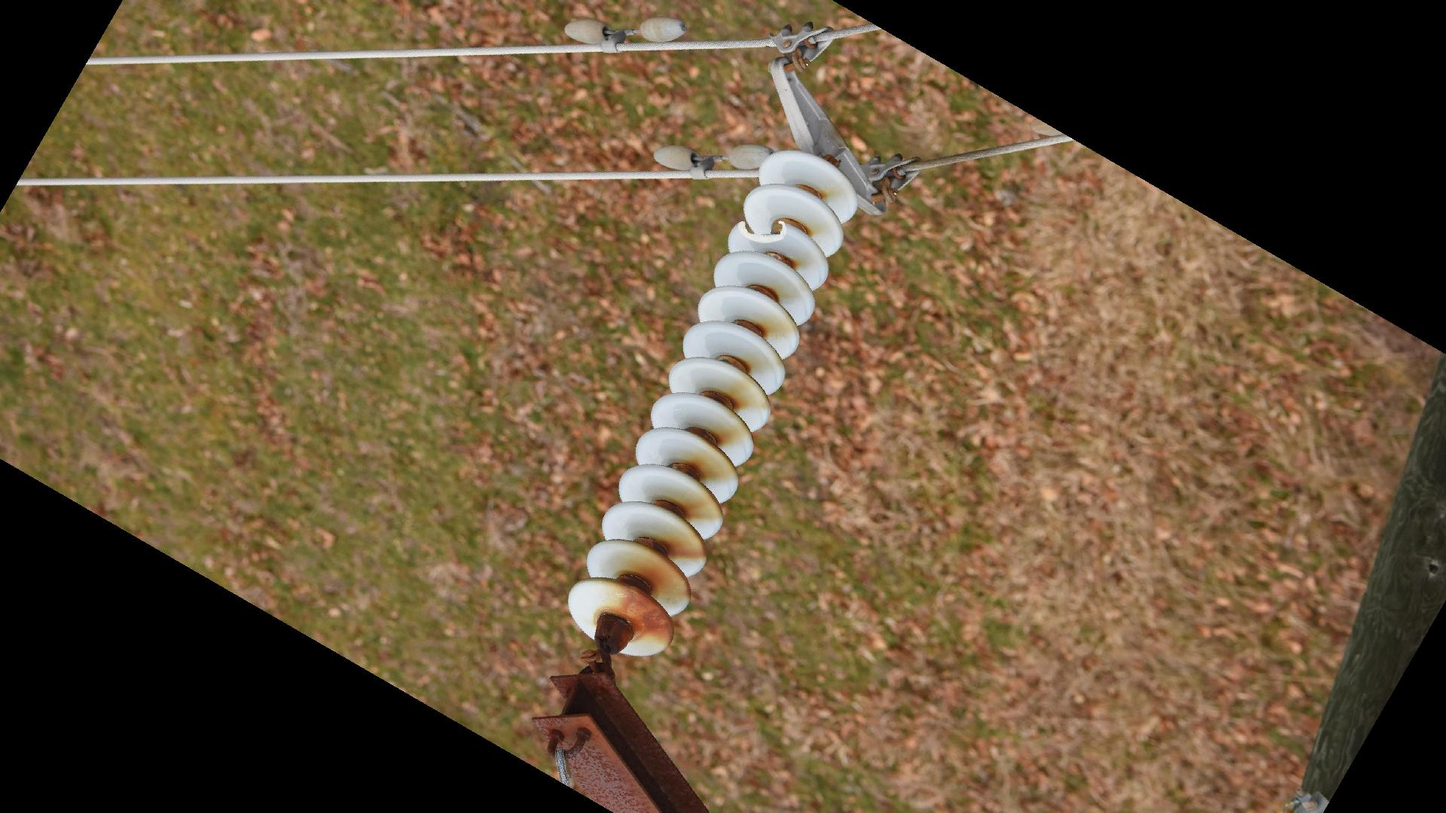insulator: (563, 144, 863, 665)
insulator_breakage: (728, 206, 798, 251)
